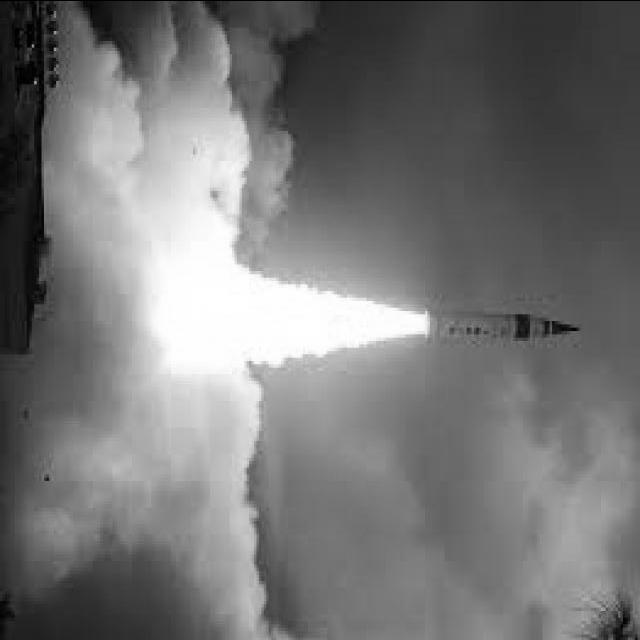Missile: (403, 298, 588, 357)
